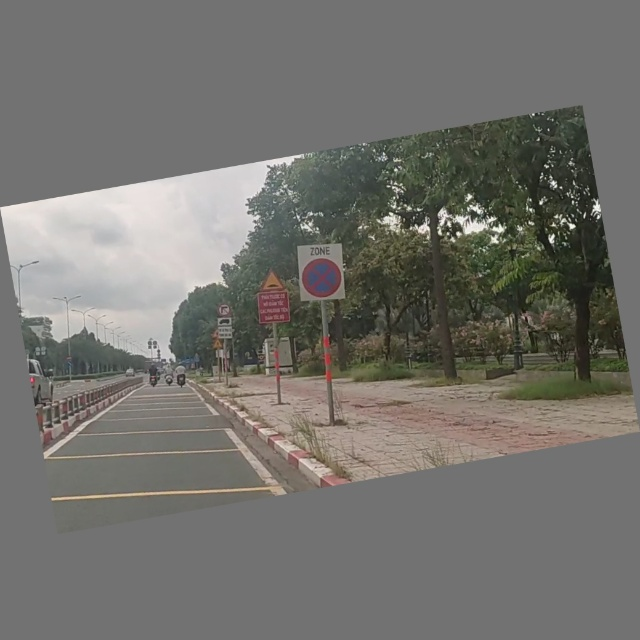P.123b: (215, 303, 232, 318)
P.130: (293, 240, 349, 306)
S.505a*Xe tai: (215, 316, 234, 341)
W.221b: (256, 268, 285, 295)
